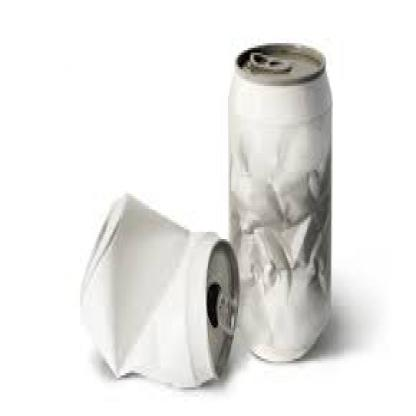METAL: (227, 43, 331, 363), (76, 189, 238, 387)
